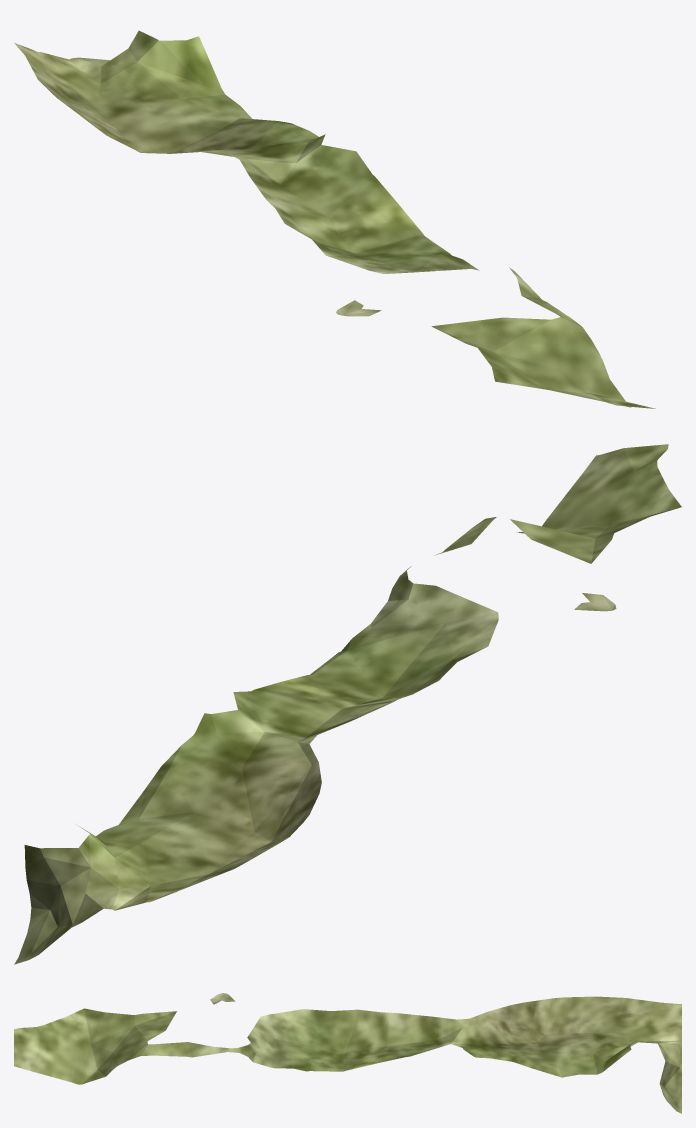
3 views of the same model, one above another, from view 1: azimuth 30°, elevation 25°; view 2: azimuth 150°, elevation 25°; view 3: azimuth 270°, elevation 25° (orthographic). The views are drawn at different scales.
Size of the model in its own units: 0.5907 by 0.3137 by 2.95.
Materials: 1 (1 with a texture image).
